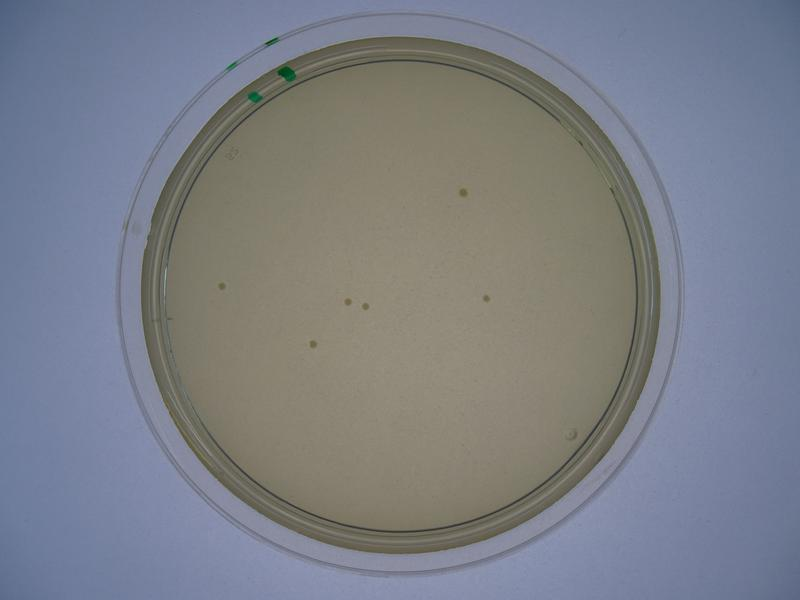colony: (457, 182, 470, 202), (212, 280, 228, 293), (309, 336, 321, 351), (341, 297, 353, 308), (480, 293, 493, 303), (361, 301, 371, 312)
